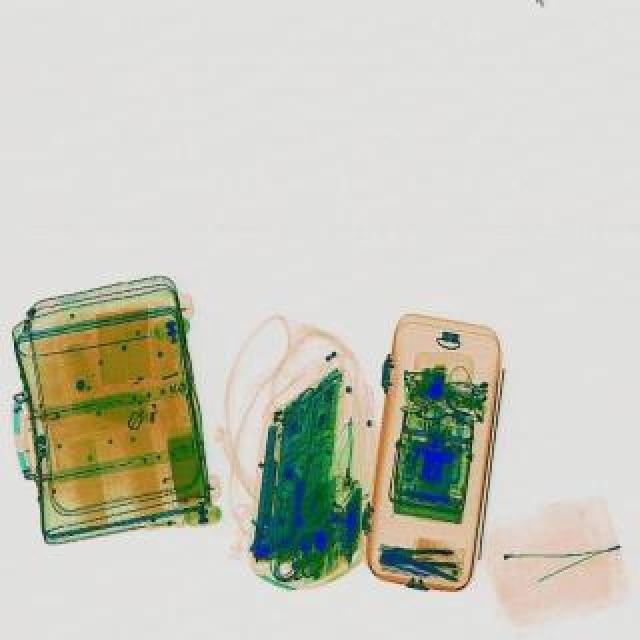wrench: (412, 382, 482, 438), (382, 542, 458, 566)
